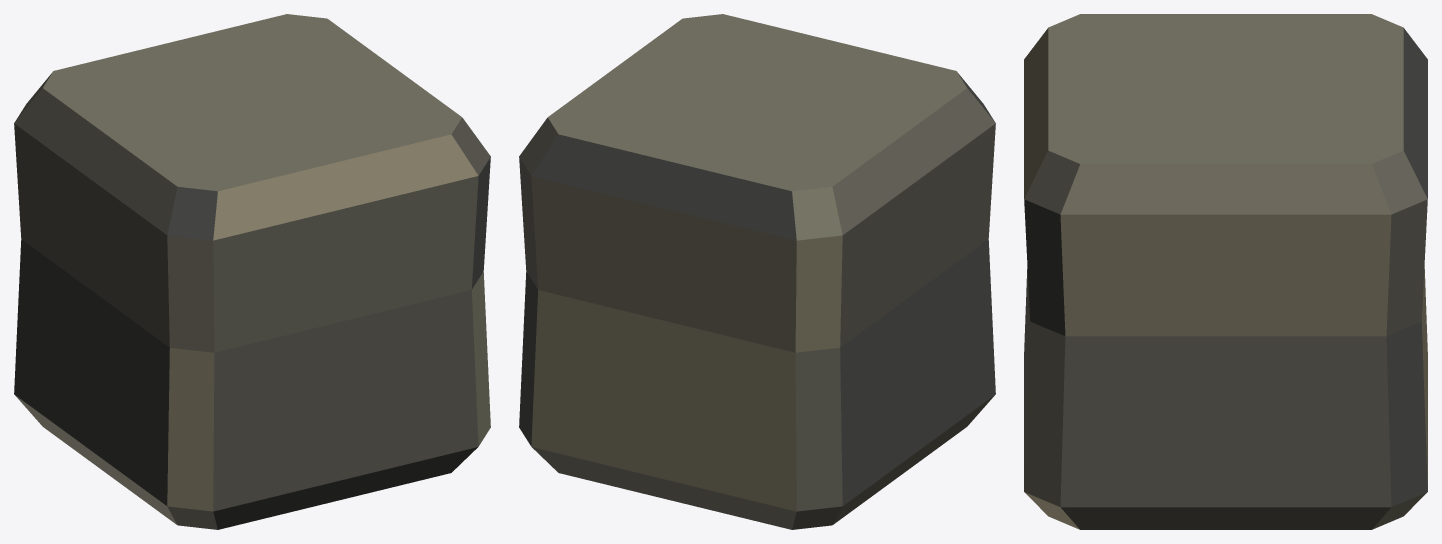
File: RailHazardSolid.obj
3 renders of one model, left to right at view 1: azimuth 30°, elevation 25°; view 2: azimuth 150°, elevation 25°; view 3: azimuth 270°, elevation 25°, orthographic. The views are drawn at different scales.
Visible parts, largest first — view 1: RailHazardSolid; view 2: RailHazardSolid; view 3: RailHazardSolid.
Part boxes in pixels (x1=…): RailHazardSolid: x1=14, y1=14, x2=490, y2=529; RailHazardSolid: x1=519, y1=14, x2=995, y2=529; RailHazardSolid: x1=1024, y1=14, x2=1427, y2=529.
Bounding box in the file's own units: 2 × 2 × 2.
Materials: 1 (1 with a texture image).
